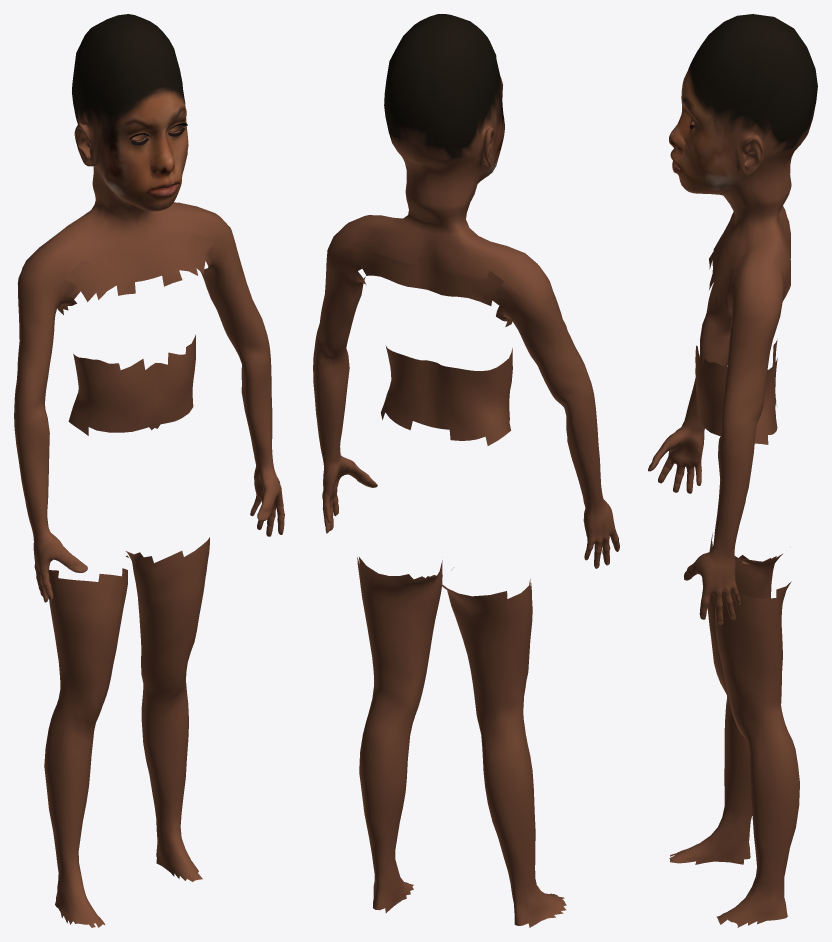
The model's file is streetwaer-fit.glb.
The picture shows the model from 3 angles, left to right: view 1: azimuth 30°, elevation 25°; view 2: azimuth 150°, elevation 25°; view 3: azimuth 270°, elevation 25°; orthographic projection. The views are drawn at different scales.
Visible parts, largest first — view 1: Skin, TorsoUnderOuterwear; view 2: Skin, TorsoUnderOuterwear; view 3: Skin, TorsoUnderOuterwear.
Part boxes in pixels (left/top/right/bottom): Skin: left=14, top=14, right=284, bottom=927; TorsoUnderOuterwear: left=57, top=233, right=214, bottom=435; Skin: left=313, top=14, right=619, bottom=927; TorsoUnderOuterwear: left=351, top=240, right=512, bottom=445; Skin: left=648, top=14, right=817, bottom=927; TorsoUnderOuterwear: left=695, top=214, right=790, bottom=444.
Bounding box in the file's own units: 1.08 × 3.41 × 0.5966.
